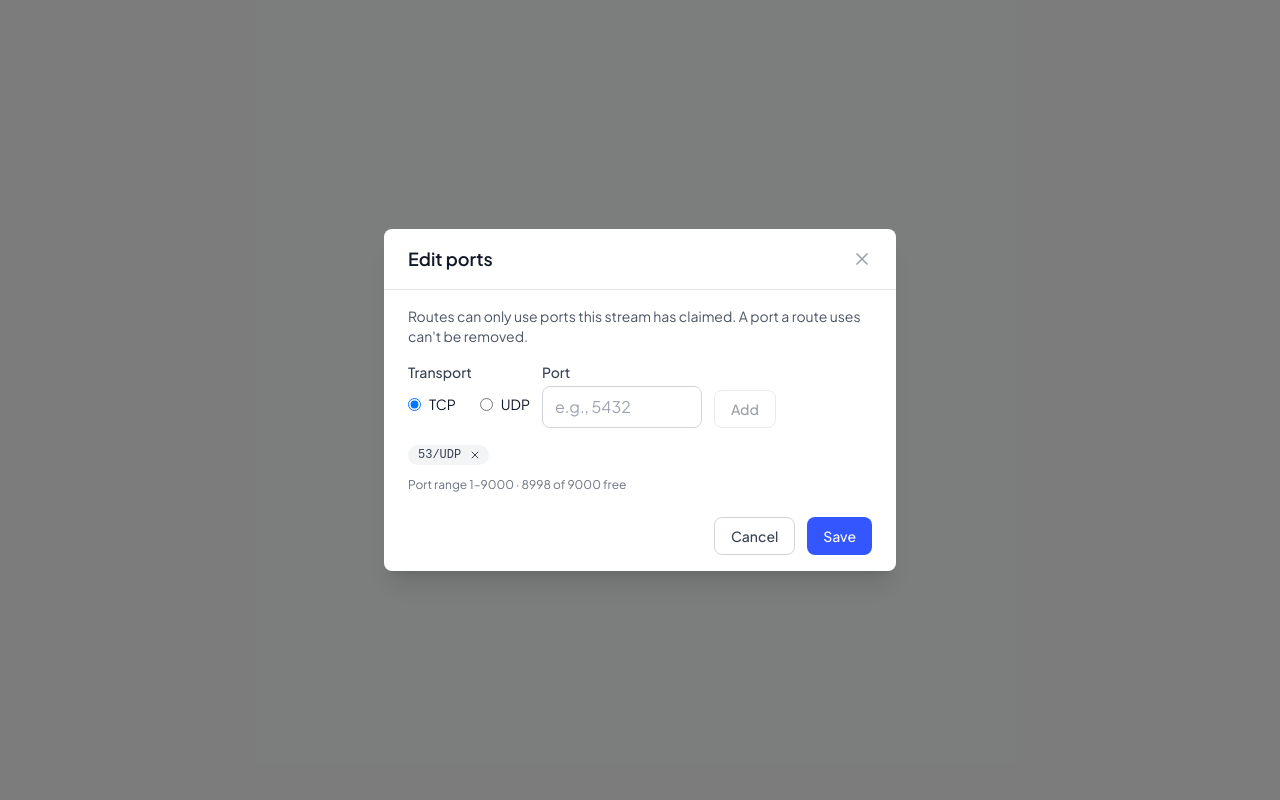
Save is disabled with zero claims
This screenshot has width=1280, height=800.
Expected: the button "Save" is enabled, [807,517,872,555]
Click the button named "Remove 53/UDP" at [475, 455], box [467,447,483,463]
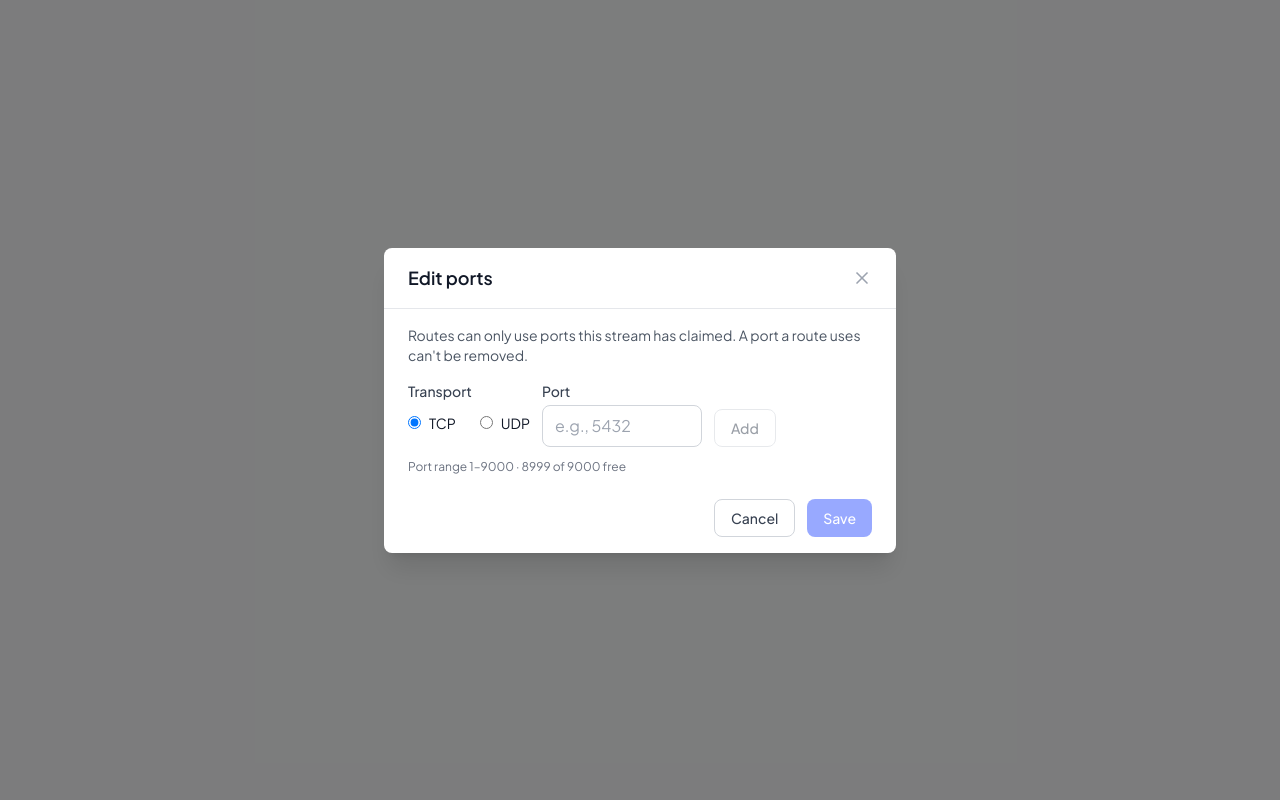
Expected: the button "Save" is disabled, [807,498,872,536]
